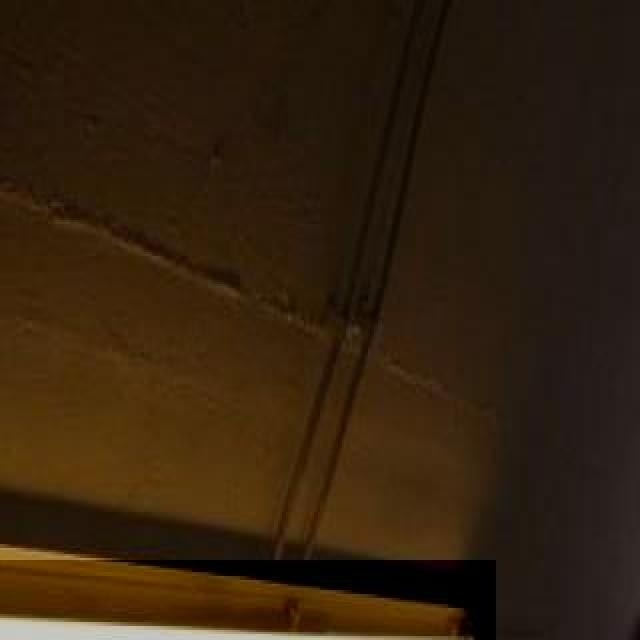fluorescent tube: (0, 570, 494, 640)
